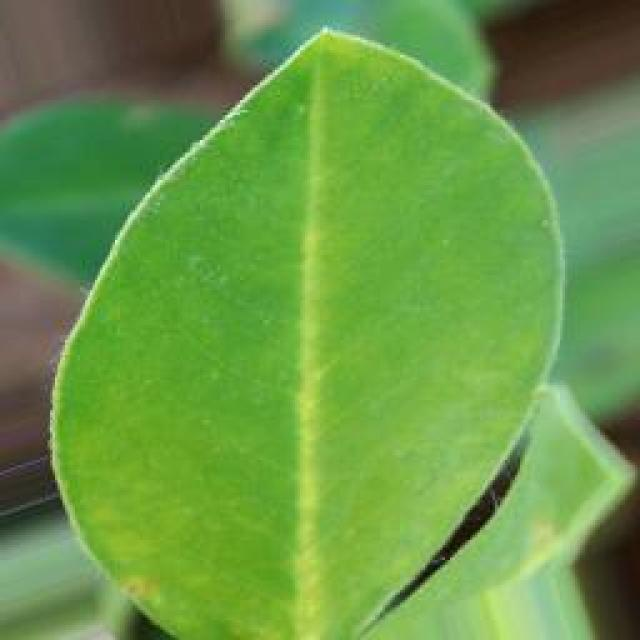Yellow_and_black_sigatoka: (37, 30, 571, 640)
